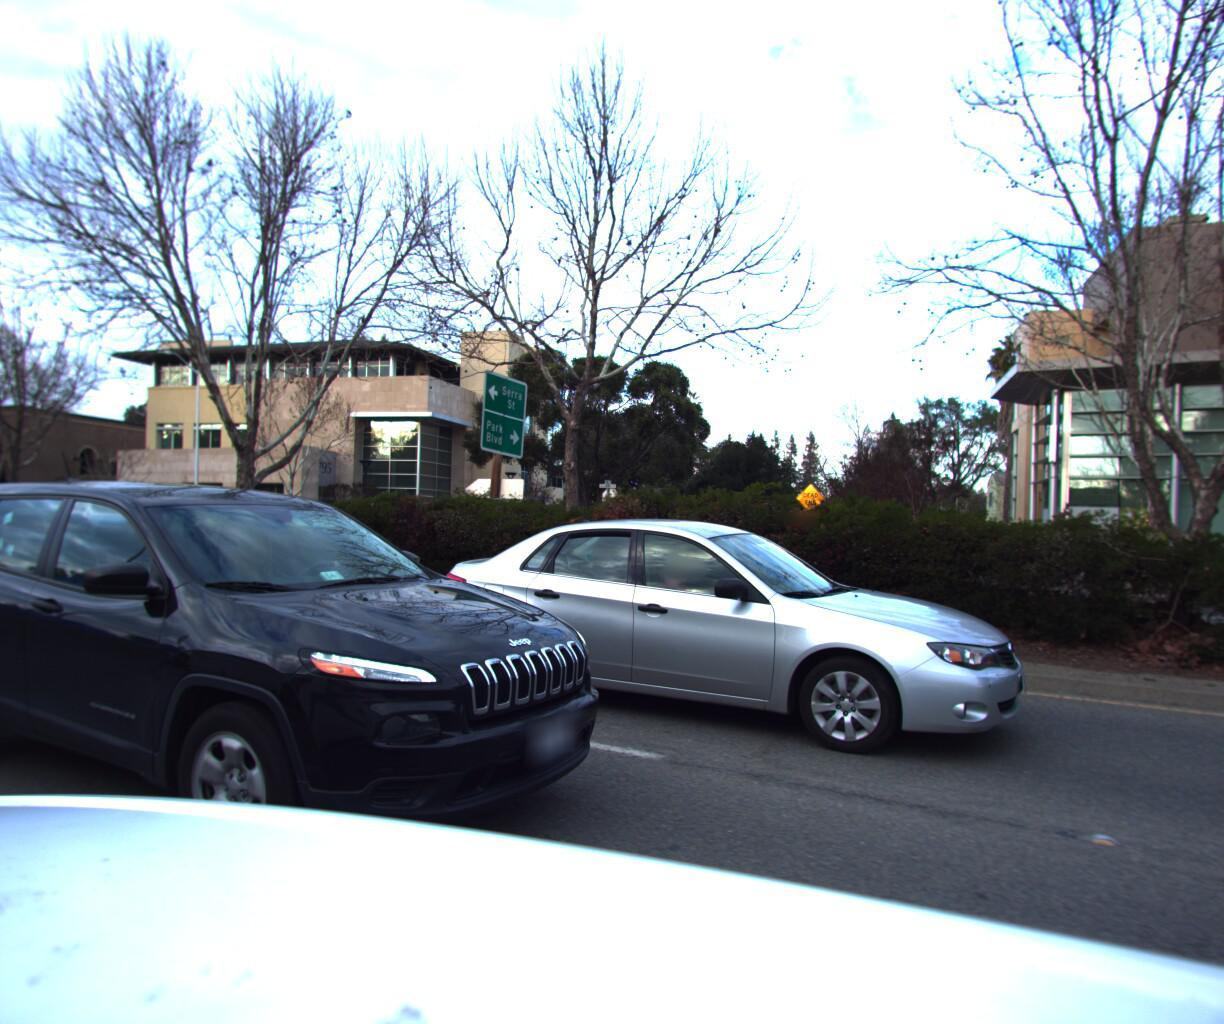car: (0, 389, 640, 930), (420, 507, 1046, 782)
